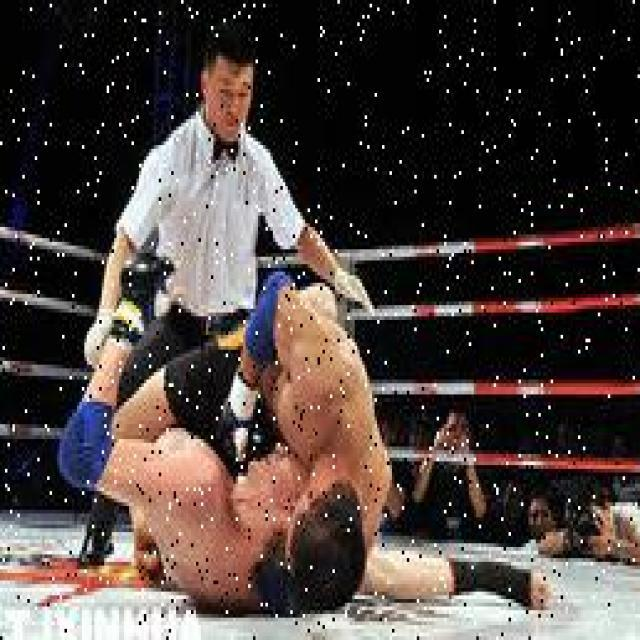fall: (64, 320, 514, 618)
